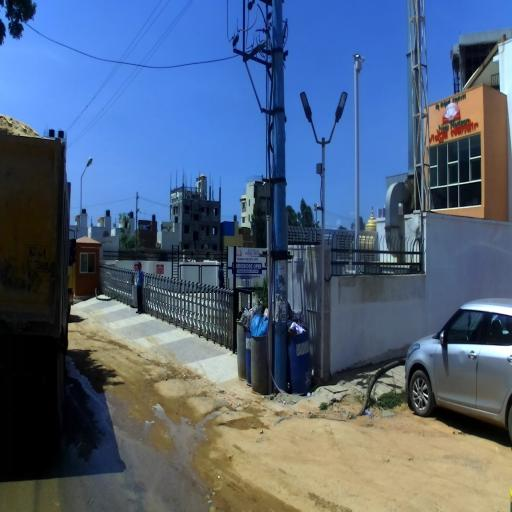street_light_0: (80, 157, 93, 180)
